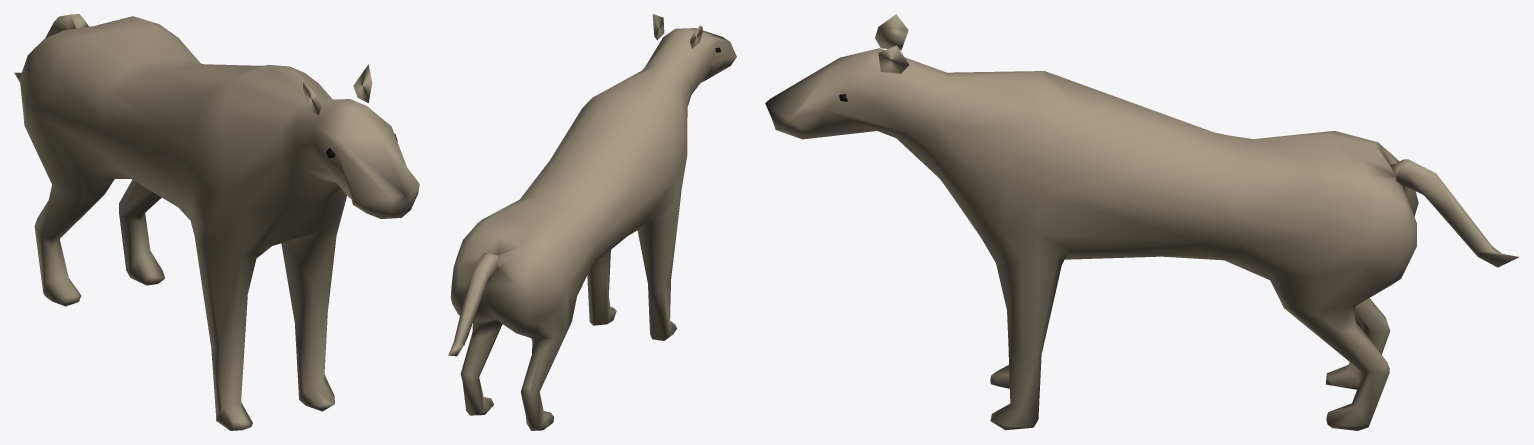
Rendered from hyaene.glb.
3 views of the same model, side by side, from view 1: azimuth 30°, elevation 25°; view 2: azimuth 150°, elevation 25°; view 3: azimuth 270°, elevation 25° (orthographic). The views are drawn at different scales.
Parts seen in each view (by area): view 1: lack; view 2: lack; view 3: lack.
Part boxes in pixels (<box>): lack: <box>14,14,419,430</box>; lack: <box>448,14,736,430</box>; lack: <box>765,14,1519,430</box>.
Bounding box in the file's own units: 0.4203 × 1.05 × 1.91.
